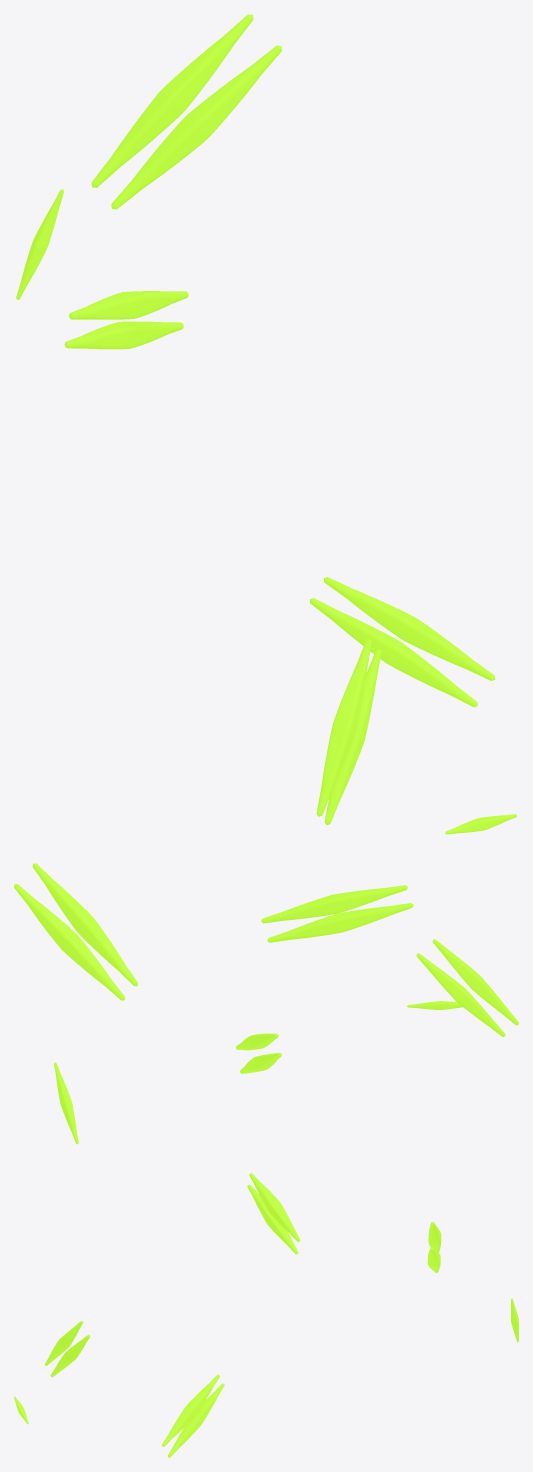
The picture shows the model from 3 angles, top to bottom: view 1: azimuth 30°, elevation 25°; view 2: azimuth 150°, elevation 25°; view 3: azimuth 270°, elevation 25°; orthographic projection. The views are drawn at different scales.
Visible parts, largest first — view 1: hashi_B+1, hashi_B-1, hashi_D+1, hashi_D-1, hashi_C+1, hashi_A+1, hashi_A-1, hashi_C-1, hashi_E+0; view 2: hashi_B+1, hashi_B-1, hashi_A+1, hashi_A-1, hashi_C-1, hashi_C+1, hashi_E+0, hashi_D-1, hashi_D+1, hashi_F+0; view 3: hashi_A+1, hashi_D+1, hashi_D-1, hashi_A-1, hashi_C+1, hashi_C-1.
Boxes of the visible parts, left/top/right/bottom form: hashi_B+1: left=91, top=14, right=253, bottom=187; hashi_B-1: left=111, top=45, right=281, bottom=209; hashi_D+1: left=323, top=577, right=495, bottom=680; hashi_D-1: left=310, top=598, right=477, bottom=707; hashi_C+1: left=316, top=639, right=371, bottom=816; hashi_A+1: left=69, top=291, right=188, bottom=319; hashi_A-1: left=64, top=321, right=183, bottom=349; hashi_C-1: left=324, top=649, right=381, bottom=824; hashi_E+0: left=16, top=189, right=64, bottom=299; hashi_B+1: left=32, top=863, right=137, bottom=986; hashi_B-1: left=14, top=884, right=124, bottom=1000; hashi_A+1: left=261, top=885, right=407, bottom=923; hashi_A-1: left=267, top=903, right=413, bottom=942; hashi_C-1: left=416, top=953, right=505, bottom=1036; hashi_C+1: left=432, top=939, right=518, bottom=1025; hashi_E+0: left=54, top=1062, right=78, bottom=1144; hashi_D-1: left=240, top=1052, right=281, bottom=1073; hashi_D+1: left=236, top=1033, right=278, bottom=1050; hashi_F+0: left=407, top=1001, right=462, bottom=1009; hashi_A+1: left=249, top=1173, right=300, bottom=1241; hashi_D+1: left=162, top=1374, right=219, bottom=1446; hashi_D-1: left=167, top=1383, right=224, bottom=1457; hashi_A-1: left=247, top=1184, right=298, bottom=1254; hashi_C+1: left=44, top=1321, right=83, bottom=1365; hashi_C-1: left=50, top=1334, right=90, bottom=1377.
Size of the model in its own units: 2.01 by 2.36 by 4.4.
